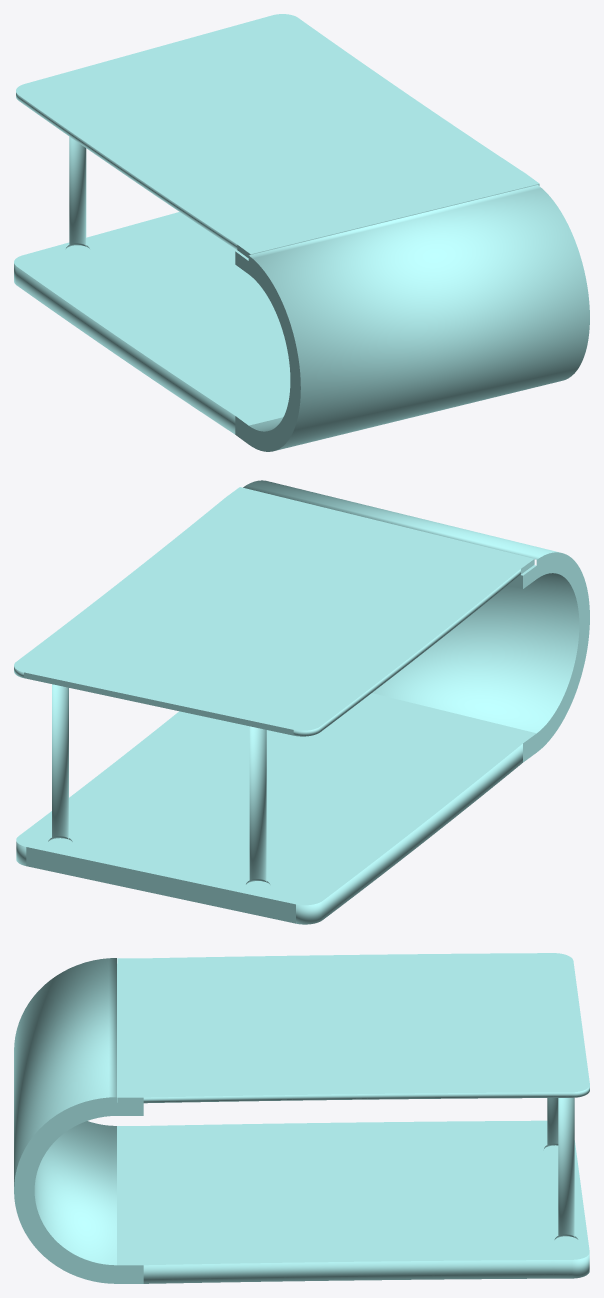
File: table.glb
The picture shows the model from 3 angles, top to bottom: view 1: azimuth 30°, elevation 25°; view 2: azimuth 150°, elevation 25°; view 3: azimuth 270°, elevation 25°; orthographic projection. The views are drawn at different scales.
Visible parts, largest first — view 1: G-__555600, G-__555591, G-__555609; view 2: G-__555600, G-__555591, G-__555609, G-__555582; view 3: G-__555600, G-__555591, G-__555582, G-__555609.
Boxes of the visible parts, x1=… form: G-__555600: x1=14, y1=185, x2=589, y2=451; G-__555591: x1=16, y1=14, x2=539, y2=257; G-__555609: x1=66, y1=136, x2=89, y2=248; G-__555600: x1=16, y1=480, x2=589, y2=924; G-__555591: x1=14, y1=487, x2=534, y2=736; G-__555609: x1=246, y1=726, x2=270, y2=884; G-__555582: x1=48, y1=684, x2=72, y2=841; G-__555600: x1=14, y1=958, x2=589, y2=1283; G-__555591: x1=117, y1=953, x2=589, y2=1103; G-__555582: x1=554, y1=1097, x2=578, y2=1239; G-__555609: x1=544, y1=1098, x2=558, y2=1148.
Size of the model in its own units: 0.836 by 0.5015 by 1.4.
